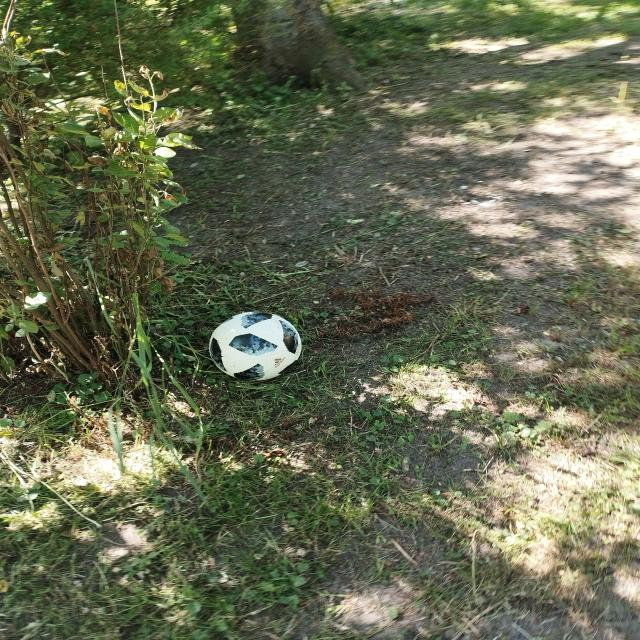nozna: (209, 311, 302, 380)
